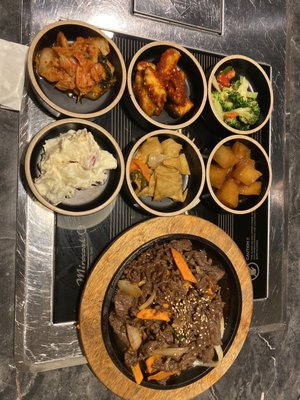sushi: (23, 119, 125, 230), (26, 23, 126, 118), (122, 44, 207, 129), (124, 131, 205, 218), (206, 54, 273, 135), (206, 135, 271, 217)
